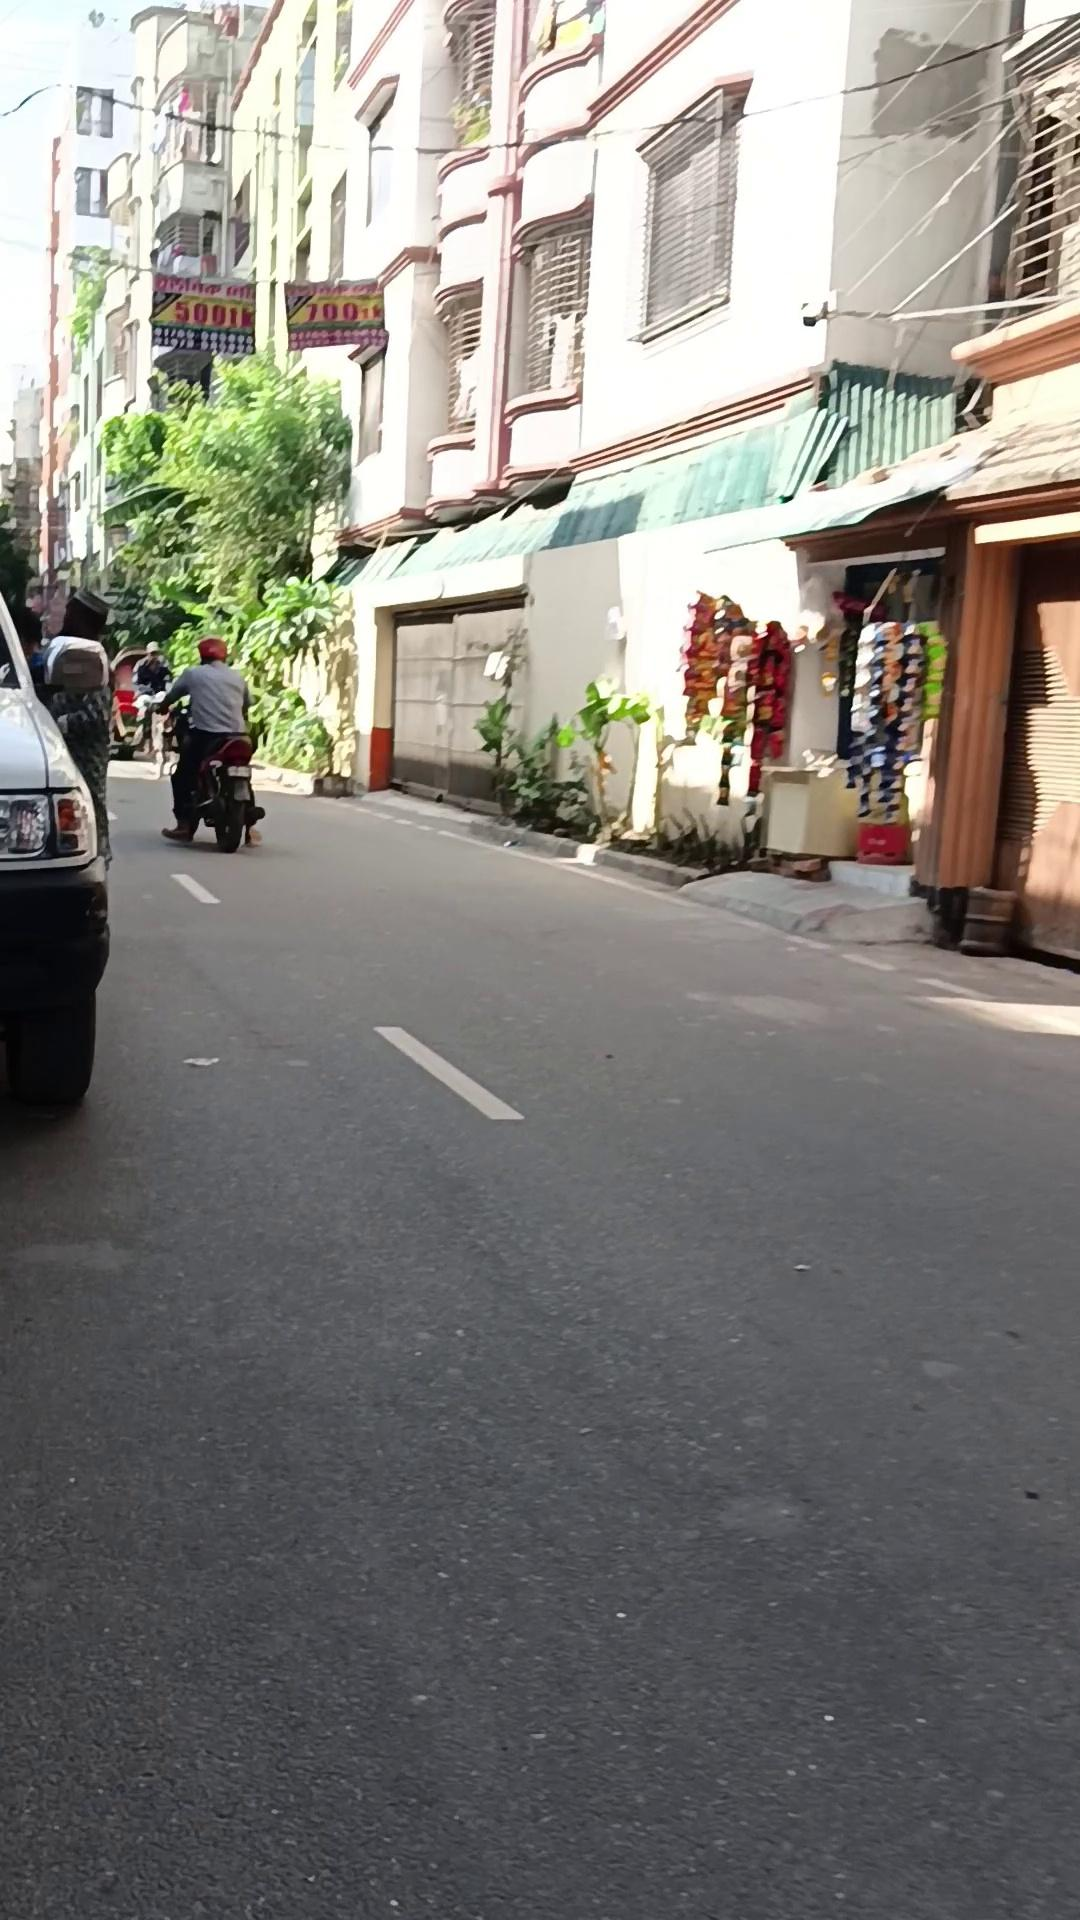Bollard: (0, 588, 113, 1108)
Broken-road: (387, 777, 708, 890), (499, 824, 707, 889), (586, 843, 707, 889)
Construction-barrier: (155, 697, 264, 854)
Garbage: (673, 865, 935, 944)
Light-pole: (96, 339, 356, 787)
Obstacle: (520, 536, 625, 819)
